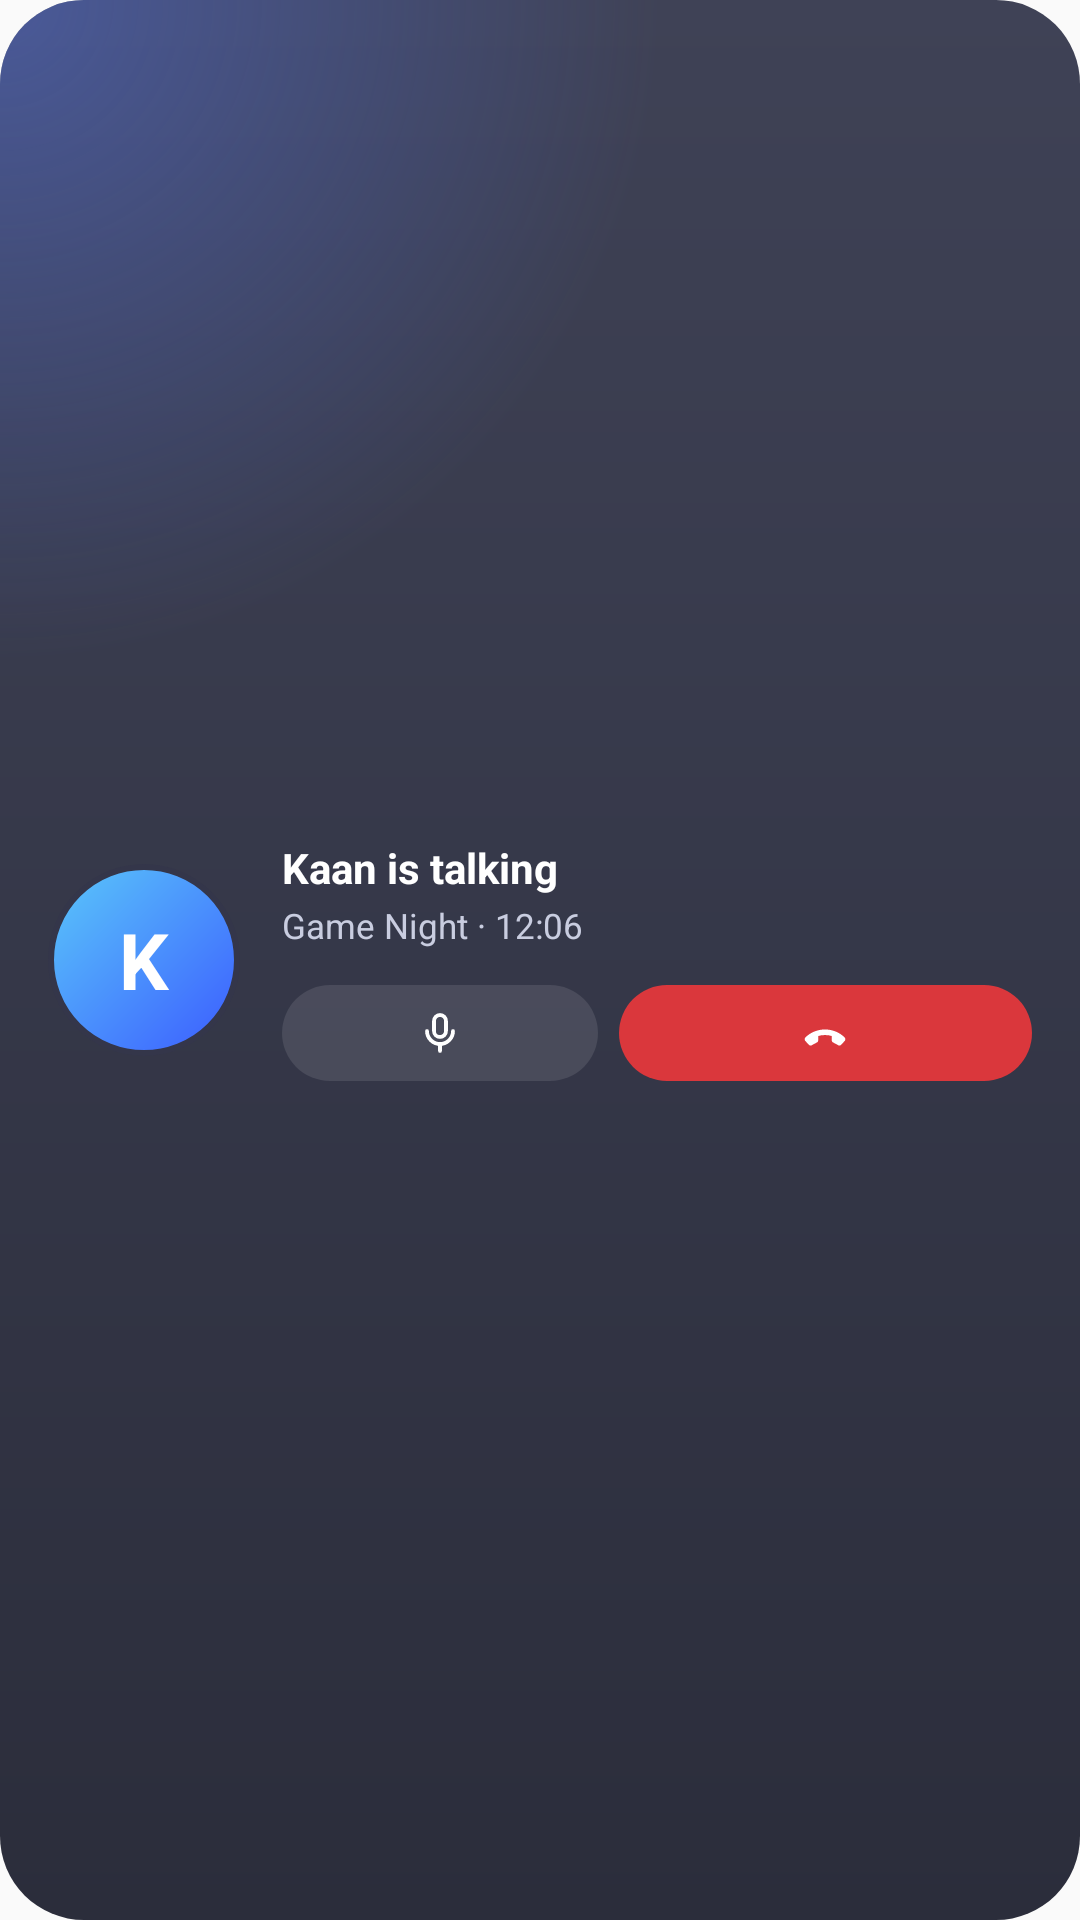

Named icons in this screenshot (1080×1920) and their centers, [x,y]:
leave: [825,1037]
mic: [440,1033]
